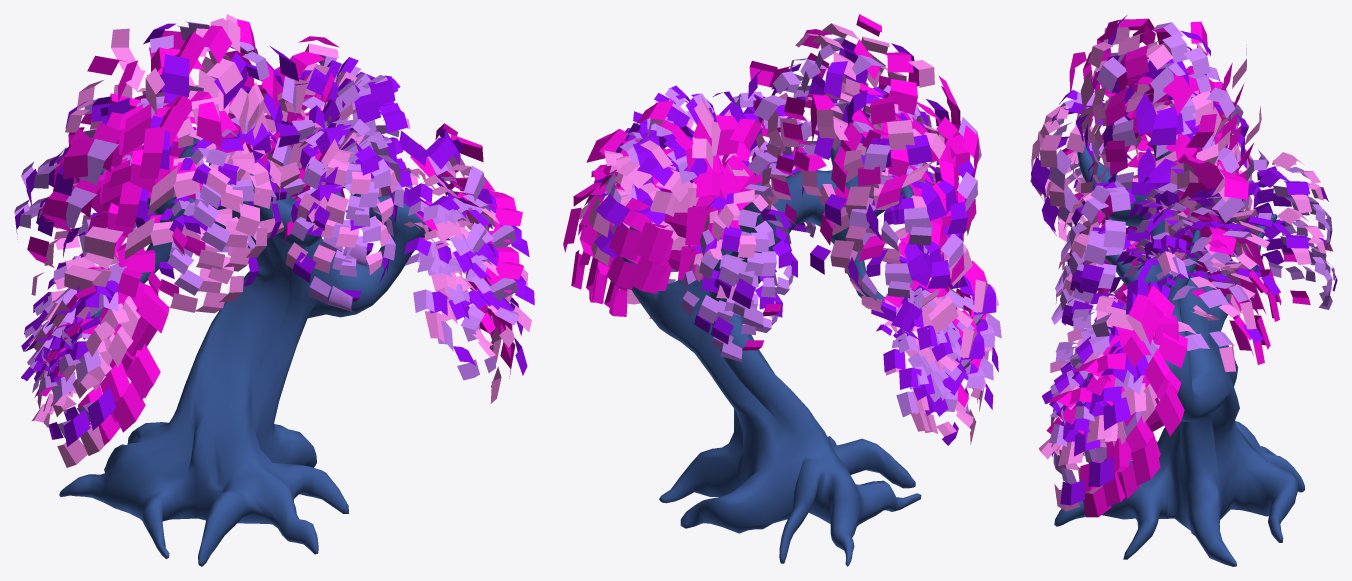
The model's file is Plaza_Tree.fbx.
3 views of the same model, side by side, from view 1: azimuth 30°, elevation 25°; view 2: azimuth 150°, elevation 25°; view 3: azimuth 270°, elevation 25° (orthographic). The views are drawn at different scales.
Visible parts, largest first — view 1: Plaza_Tree; view 2: Plaza_Tree; view 3: Plaza_Tree.
Boxes of the visible parts, x1,y1,x2,y2 form: Plaza_Tree: (14,14,534,566); Plaza_Tree: (563,14,1001,566); Plaza_Tree: (1030,15,1337,566).
Bounding box in the file's own units: 65.05 × 69.1 × 39.87.
